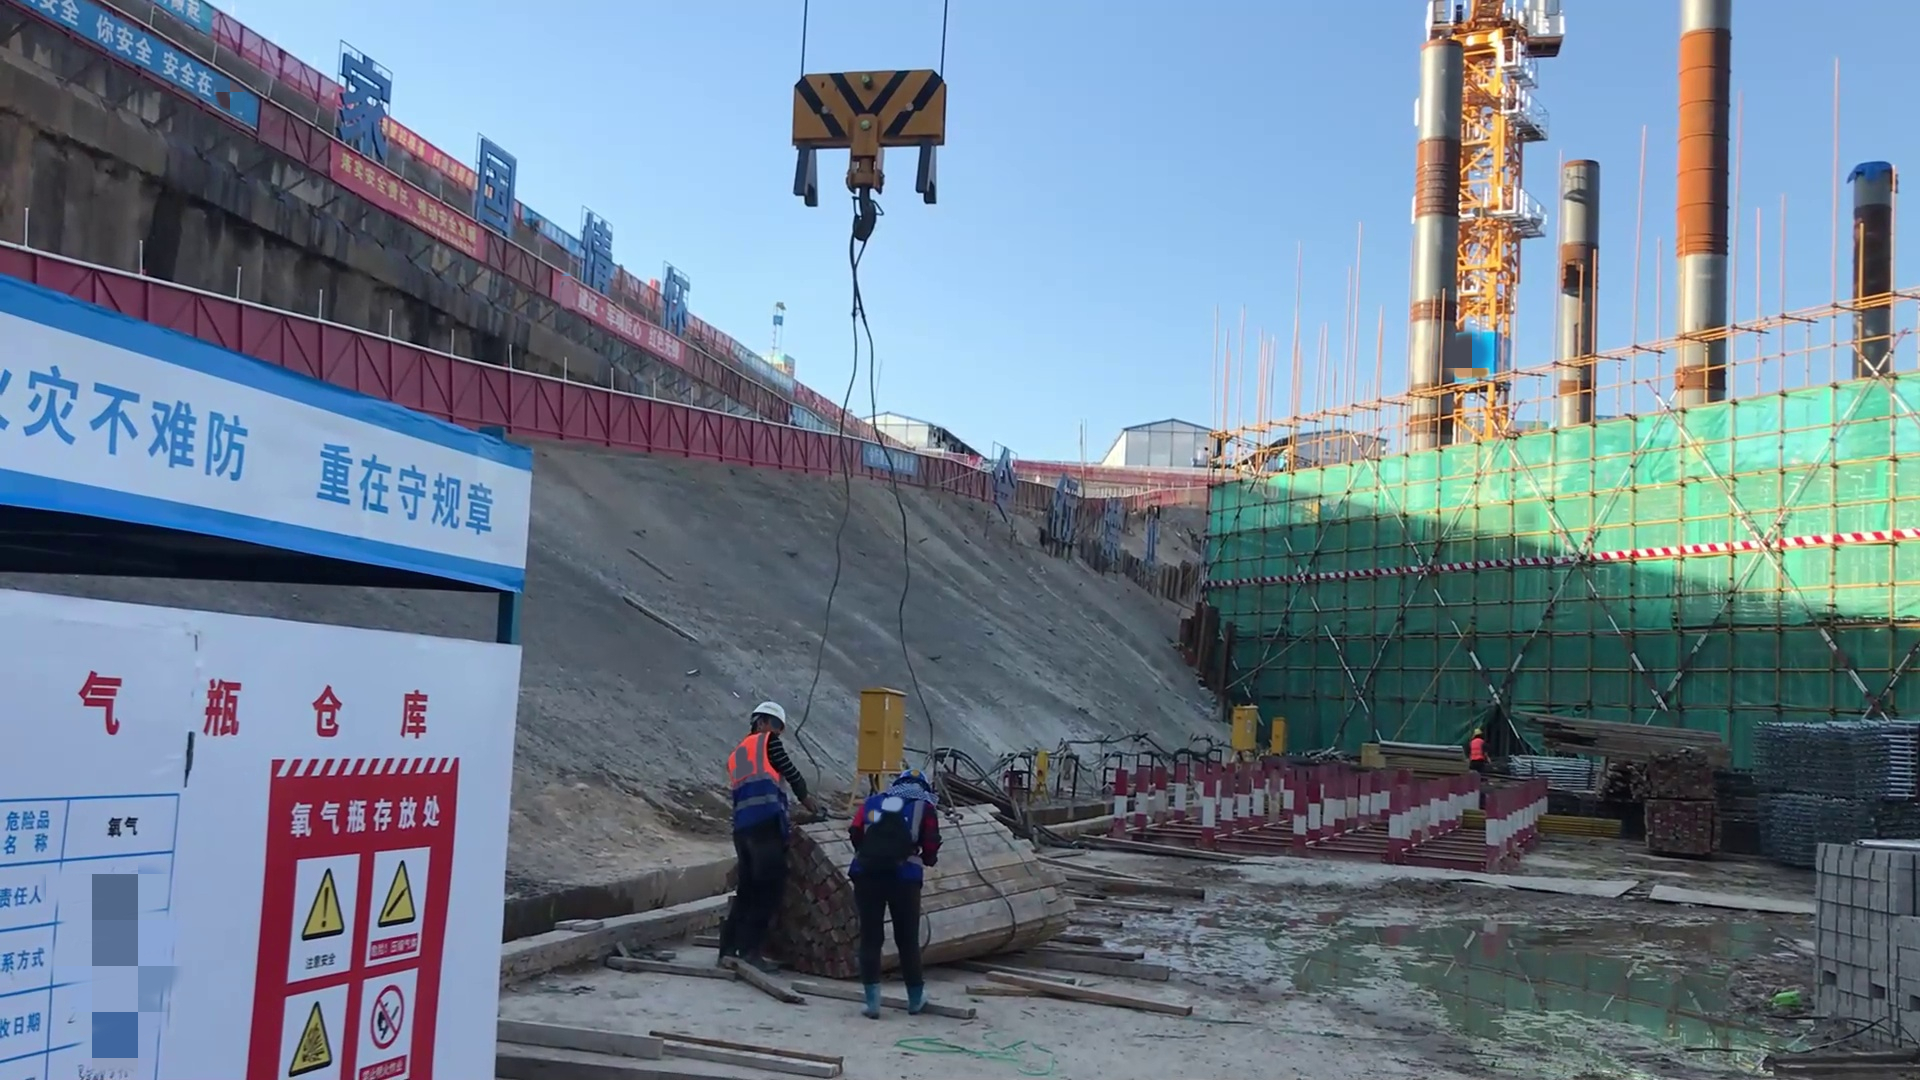brick: (1799, 801, 1920, 1060)
ebox: (857, 683, 904, 769), (1221, 706, 1254, 760), (1265, 711, 1289, 759)
fence: (508, 375, 703, 457), (703, 416, 863, 472)
helmet: (751, 699, 798, 743), (884, 767, 933, 800), (1471, 727, 1485, 738)
hook: (779, 70, 945, 224)
person: (835, 762, 947, 1016), (721, 692, 797, 966), (1465, 722, 1495, 777)
scaffold: (1751, 713, 1920, 808)
slogan: (1, 359, 500, 550), (241, 796, 451, 1080), (312, 145, 496, 298), (30, 1, 243, 124)
vest: (725, 734, 780, 785), (1469, 740, 1487, 765)
wood: (932, 804, 1071, 976), (1525, 709, 1715, 786)
